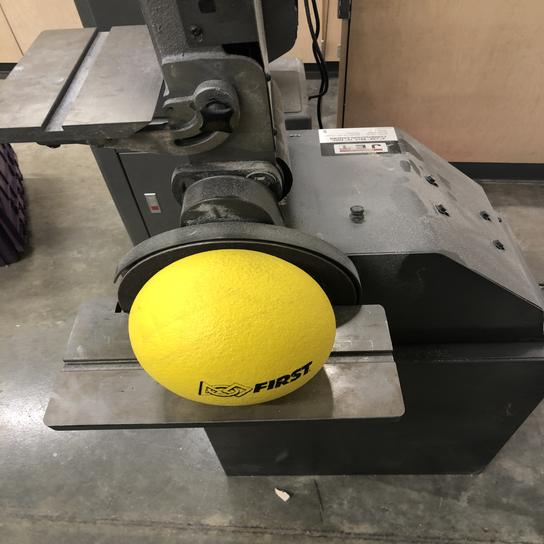ball: (124, 246, 342, 416)
